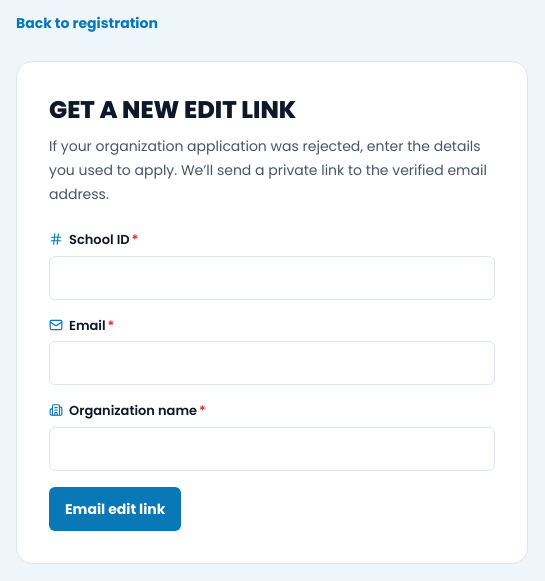
Test: Public organization onboarding › lets a rejected applicant request a fresh link using their original details
Step 1. Type "12345678" into the number field labelled "School ID*" → point(272, 278), box [49,256,495,300]
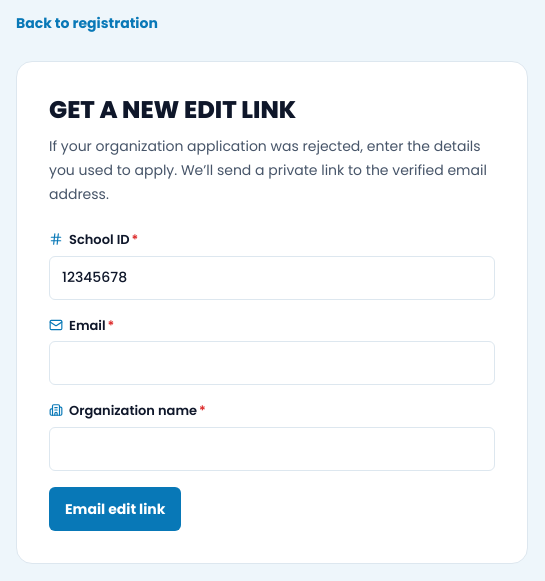
Step 2. Type "alex@example.test" into the field labelled "Email*" → point(272, 363), box [49,341,495,385]
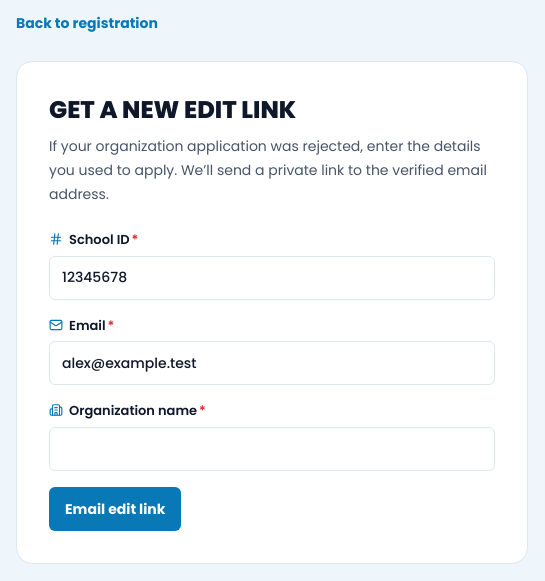
Step 3. Type "Computing Council" into the field labelled "Organization name*" → point(272, 448), box [49,426,495,470]
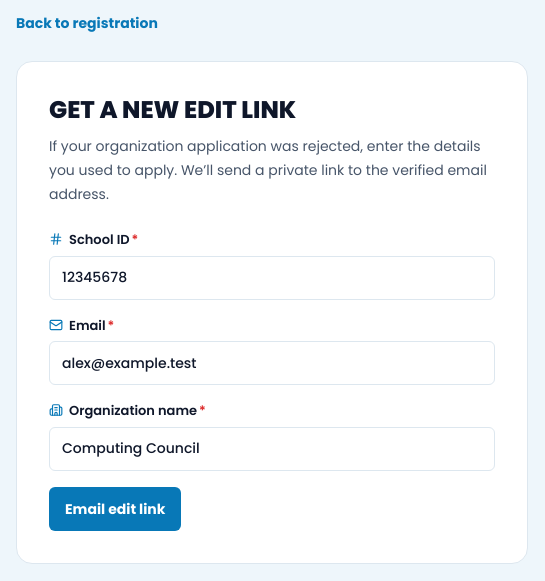
Step 4. Submit the form "Email edit link", box [49,230,495,530]
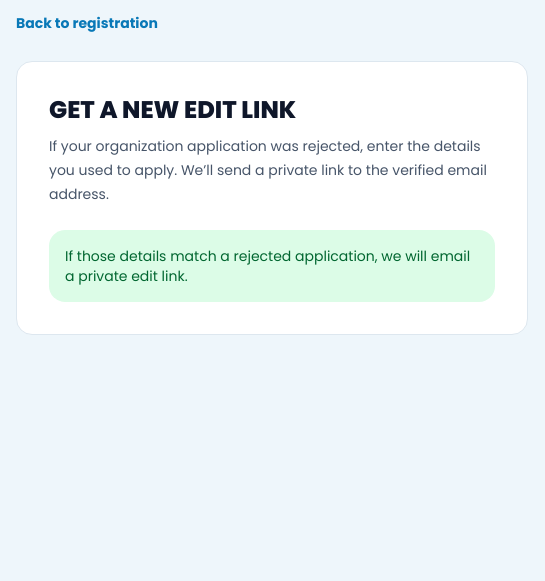
Now the message shows "If those details match a rejected application", box [65,246,470,286]
